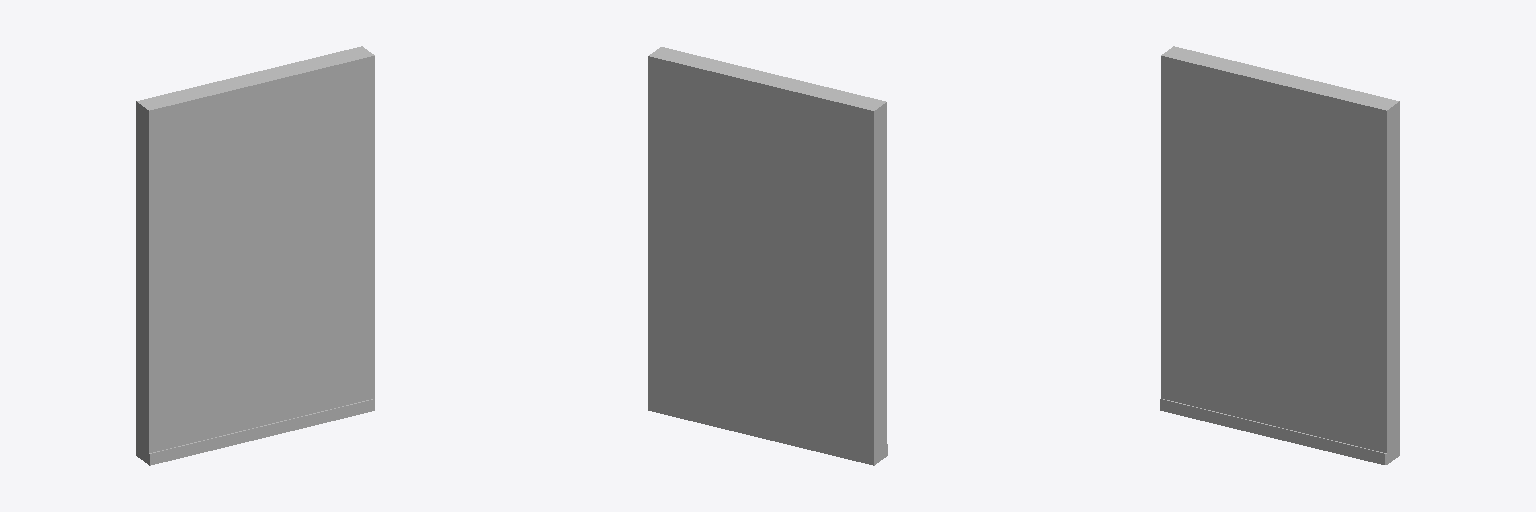
The model's file is Muro_Angolo.obj.
3 renders of one model, left to right at view 1: azimuth 30°, elevation 25°; view 2: azimuth 150°, elevation 25°; view 3: azimuth 330°, elevation 25°, orthographic.
Parts seen in each view (by area): view 1: Muro_Angolo; view 2: Muro_Angolo; view 3: Muro_Angolo.
Part boxes in pixels (left/top/right/bottom): Muro_Angolo: left=136, top=46, right=374, bottom=465; Muro_Angolo: left=648, top=47, right=887, bottom=465; Muro_Angolo: left=1160, top=46, right=1399, bottom=464.
Size of the model in its own units: 2 by 3 by 0.2073.